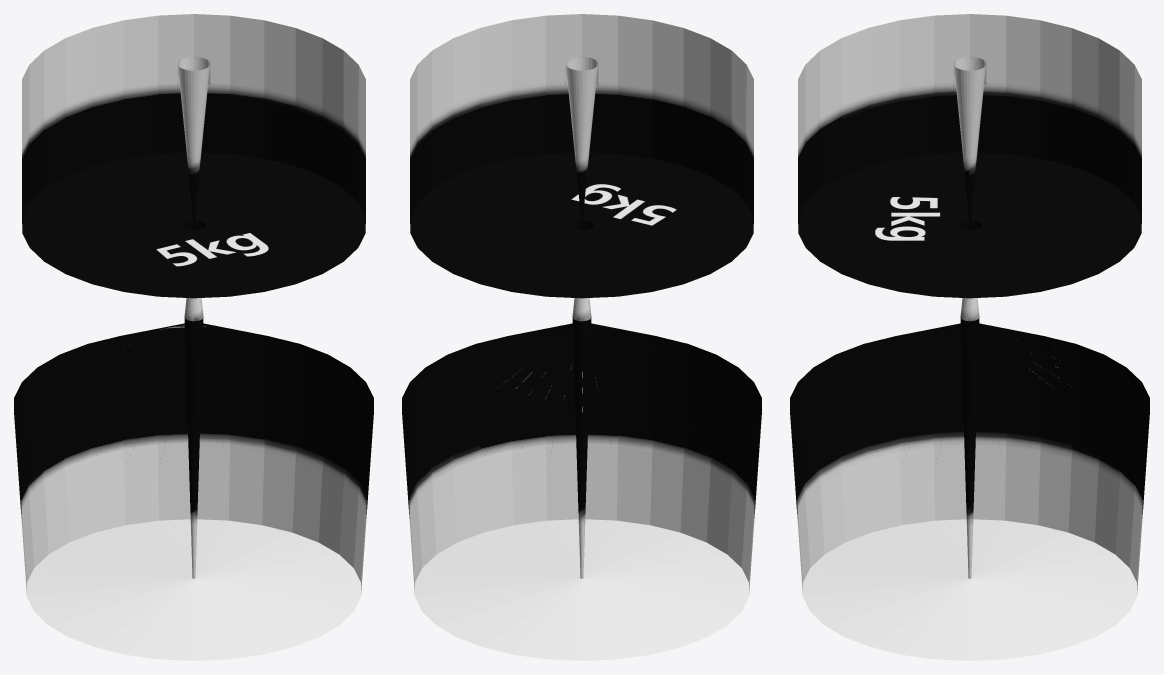
3 renders of one model, left to right at view 1: azimuth 30°, elevation 25°; view 2: azimuth 150°, elevation 25°; view 3: azimuth 270°, elevation 25°, orthographic.
Visible parts, largest first — view 1: algeomath, 스티커; view 2: algeomath, 스티커; view 3: algeomath, 스티커.
Boxes of the visible parts, left/top/right/bottom form: algeomath: left=14, top=14, right=373, bottom=660; 스티커: left=156, top=233, right=268, bottom=266; algeomath: left=402, top=14, right=761, bottom=660; 스티커: left=571, top=184, right=676, bottom=225; algeomath: left=790, top=14, right=1149, bottom=660; 스티커: left=875, top=197, right=940, bottom=240.
Size of the model in its own units: 4.05 by 6.5 by 4.03.
3 materials, 3 textured.
